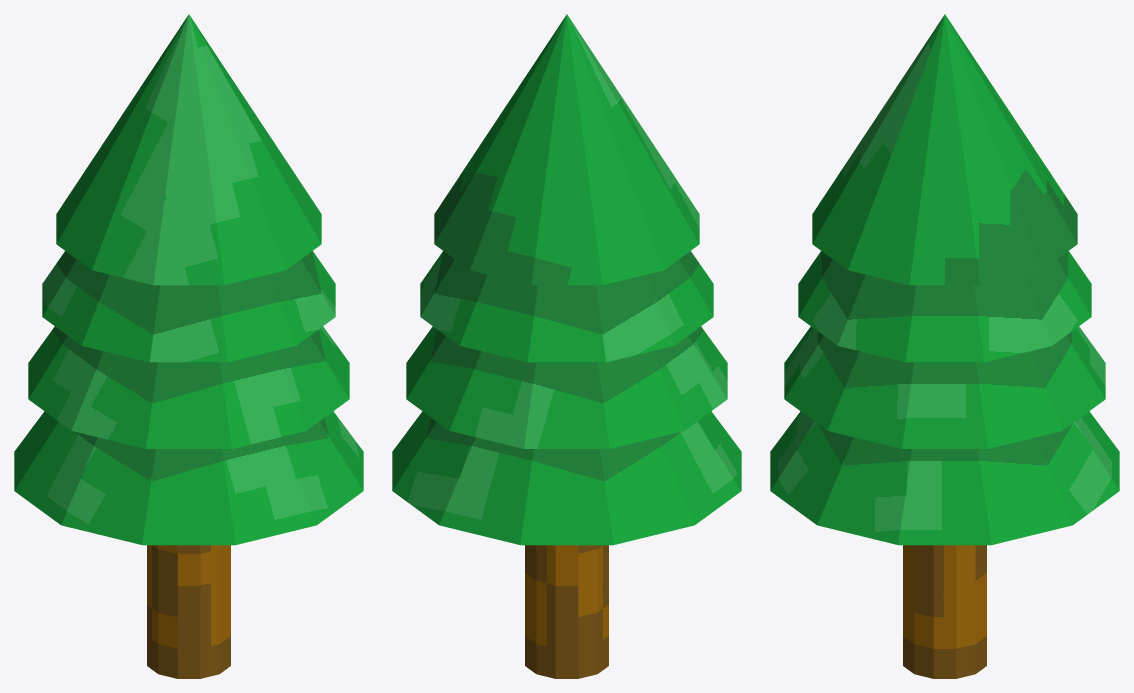
Rendered from tree.obj.
3 renders of one model, left to right at view 1: azimuth 30°, elevation 25°; view 2: azimuth 150°, elevation 25°; view 3: azimuth 270°, elevation 25°, orthographic.
Parts seen in each view (by area): view 1: cone, cylinder; view 2: cone, cylinder; view 3: cone, cylinder.
Part boxes in pixels (<box>): cone: <box>14,14,363,545</box>; cylinder: <box>147,545,230,678</box>; cone: <box>392,14,741,545</box>; cylinder: <box>525,545,608,678</box>; cone: <box>770,14,1119,545</box>; cylinder: <box>903,545,986,678</box>.
Size of the model in its own units: 0.625 by 1.28 by 0.625.
Materials: 1 (1 with a texture image).
